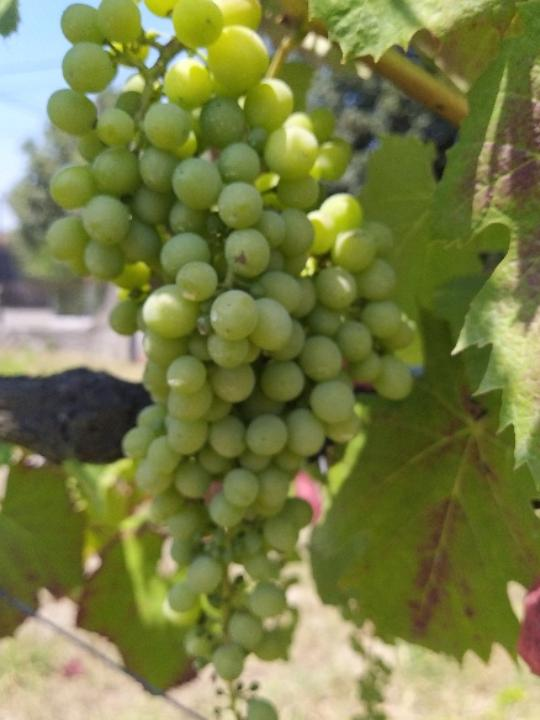grape: (42, 0, 418, 720)
